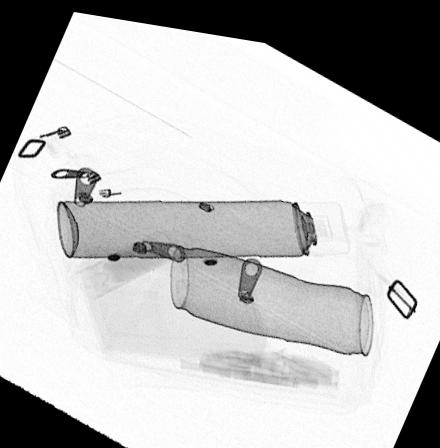Sprayer: (54, 190, 351, 256)
